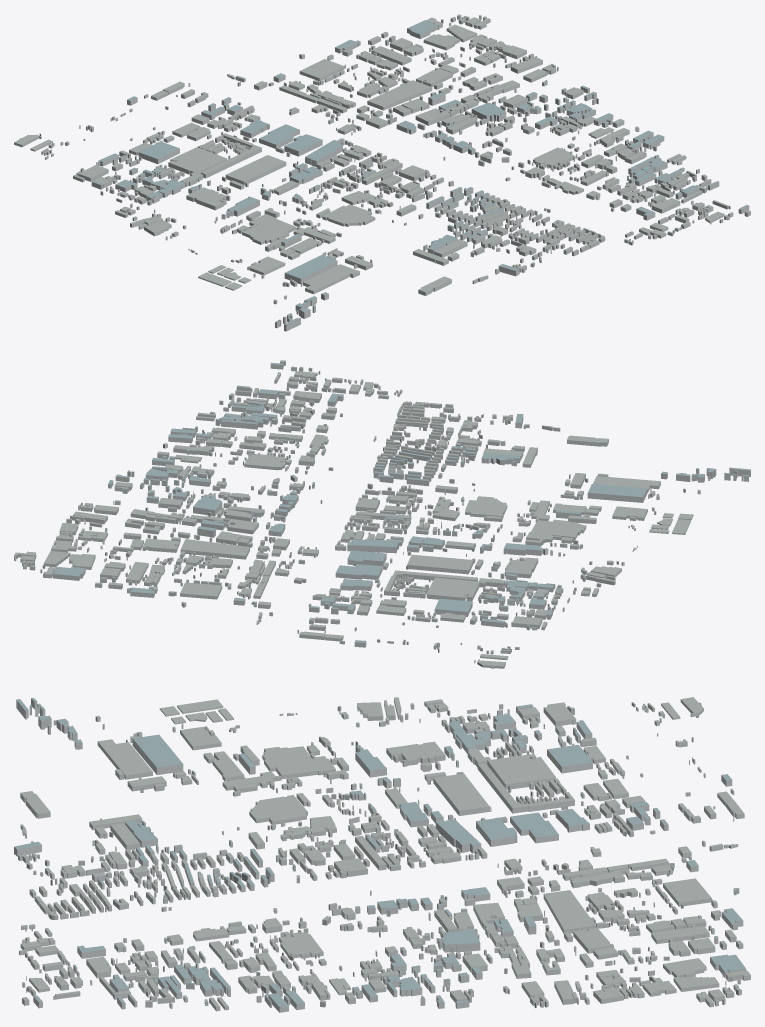
3 views of the same model, one above another, from view 1: azimuth 30°, elevation 25°; view 2: azimuth 150°, elevation 25°; view 3: azimuth 270°, elevation 25° (orthographic). The views are drawn at different scales.
Visible parts, largest first — view 1: 上海全域建筑分块 · mapped building neighborhood; view 2: 上海全域建筑分块 · mapped building neighborhood; view 3: 上海全域建筑分块 · mapped building neighborhood.
Boxes of the visible parts, x1,y1,x2,y2 form: 上海全域建筑分块 · mapped building neighborhood: [14, 14, 750, 331]; 上海全域建筑分块 · mapped building neighborhood: [14, 360, 750, 668]; 上海全域建筑分块 · mapped building neighborhood: [14, 697, 750, 1012].
Bounding box in the file's own units: 2161 × 28.6 × 2152.
